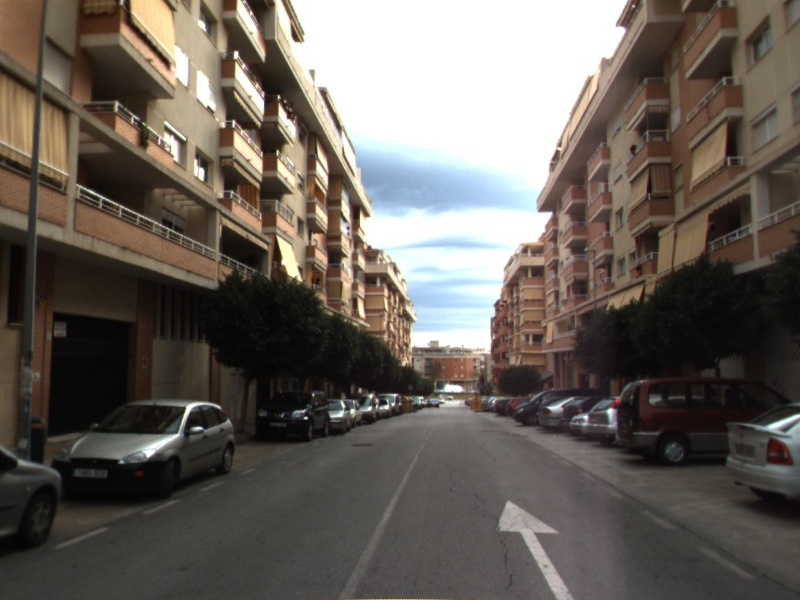STRAIGHT: (493, 499, 577, 600)
